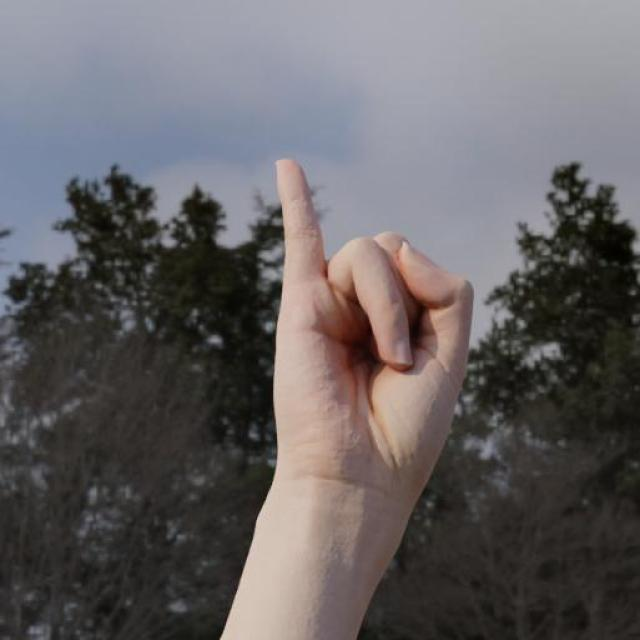I: (219, 116, 515, 640)
